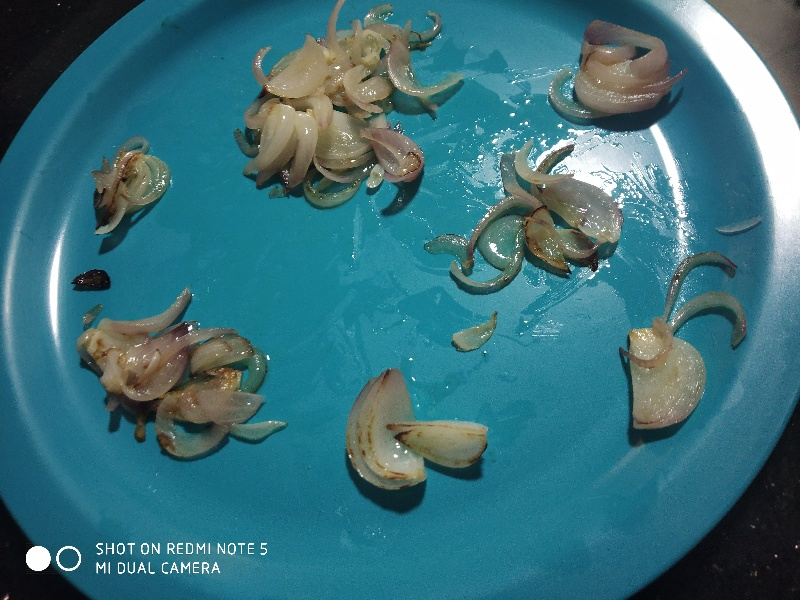onion_fried: (80, 303, 281, 459), (96, 138, 171, 238)
onion_golden: (239, 22, 446, 206), (631, 253, 739, 443), (343, 367, 489, 499), (559, 22, 689, 133), (519, 209, 571, 277)
